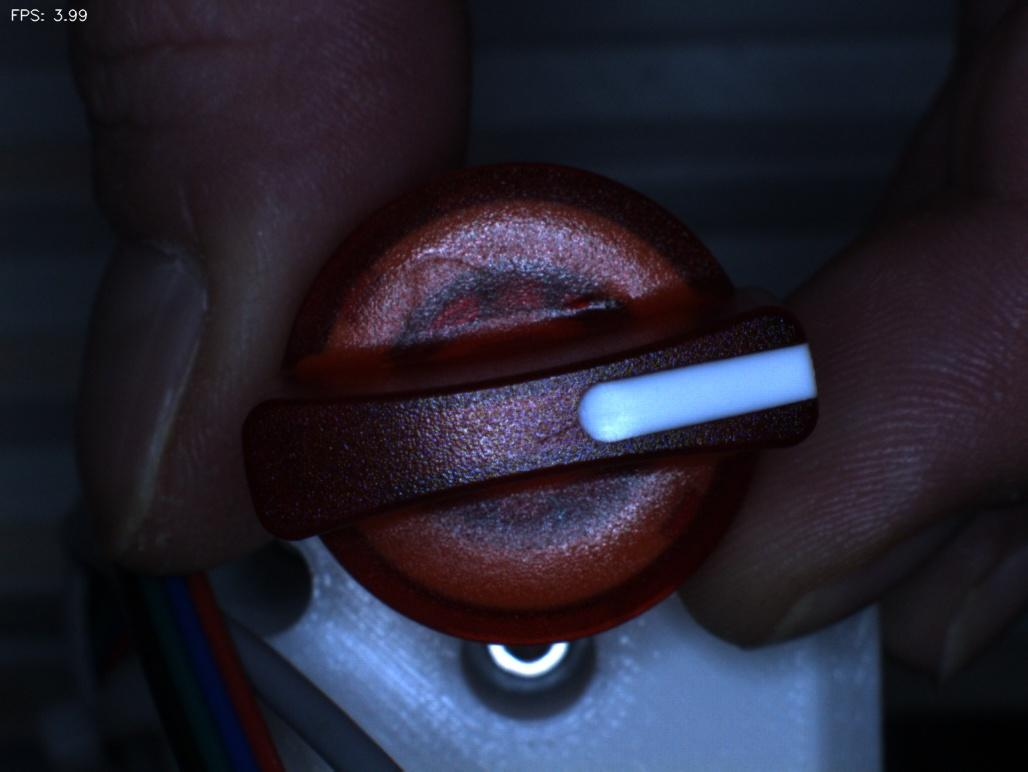Choc: (551, 253, 650, 343)
